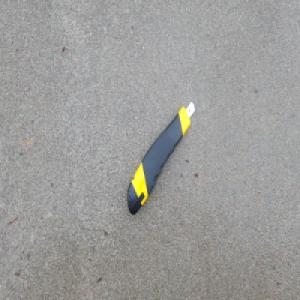Cutter: (126, 101, 195, 217)
